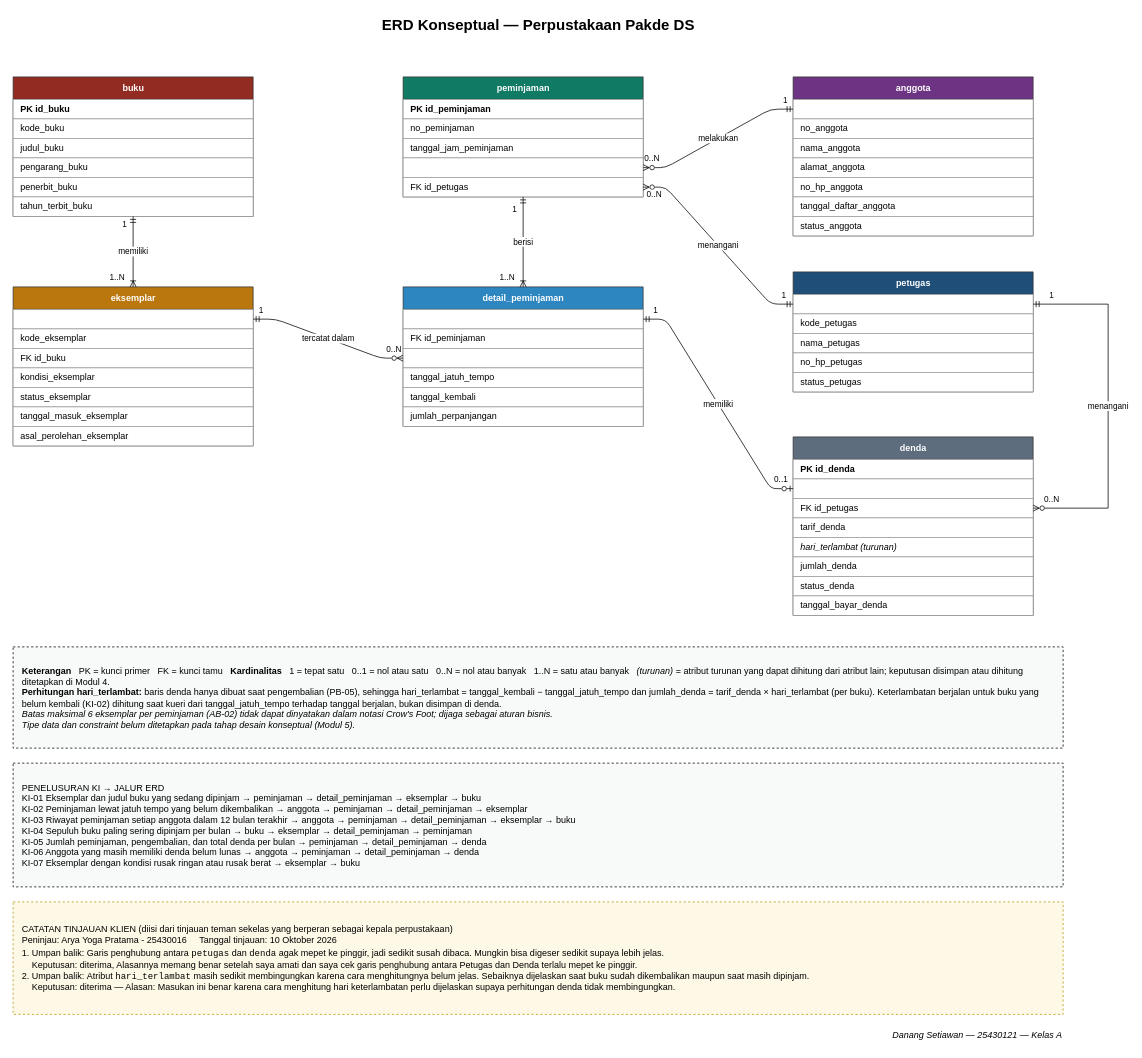
The diagram is 1142 pixels wide and 1058 high, and some of its shapes have lost their labels. The shapes that lost their labels are listed below. From the top down, each one's centre as x and y in pixels, then its label:
the point at 912,109: PK id_anggota
the point at 522,167: FK id_anggota
the point at 132,319: PK id_eksemplar
the point at 522,319: PK id_detail_peminjaman
the point at 912,304: PK id_petugas
the point at 522,358: FK id_eksemplar
the point at 912,488: FK id_detail_peminjaman
